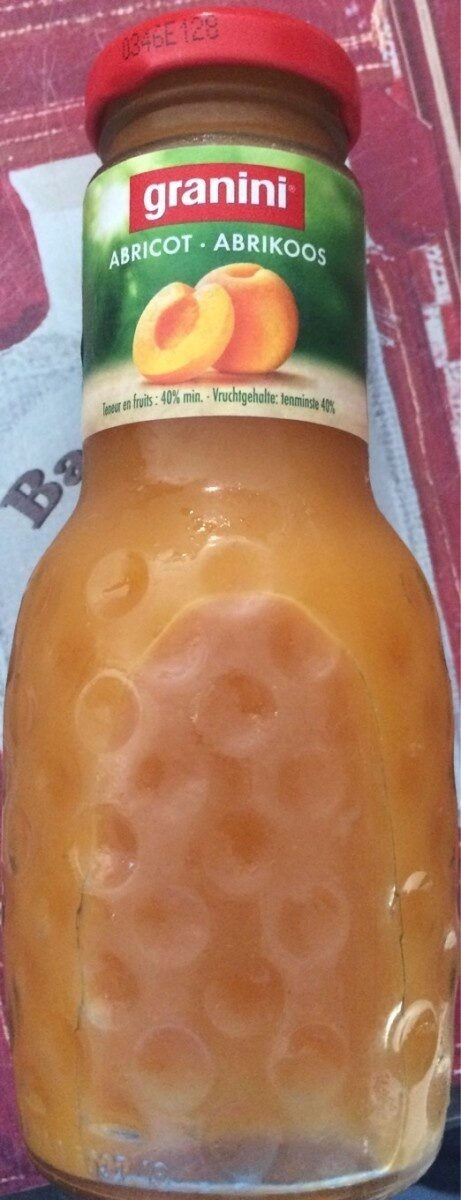Granini abricot: (23, 60, 438, 1140)
